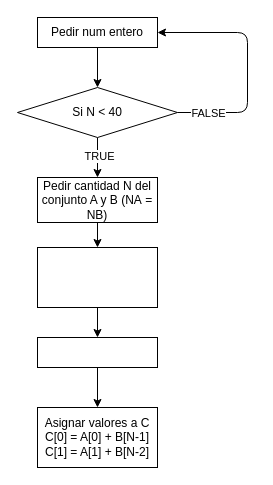
Image size: 273x485. Some labels were removed from this diagram. Here are the shapes that lost their labels. From the top down, the centre of each, then its label:
point (97, 277): Pedir valores del conjunto A y B
point (97, 352): Crear conjunto C
